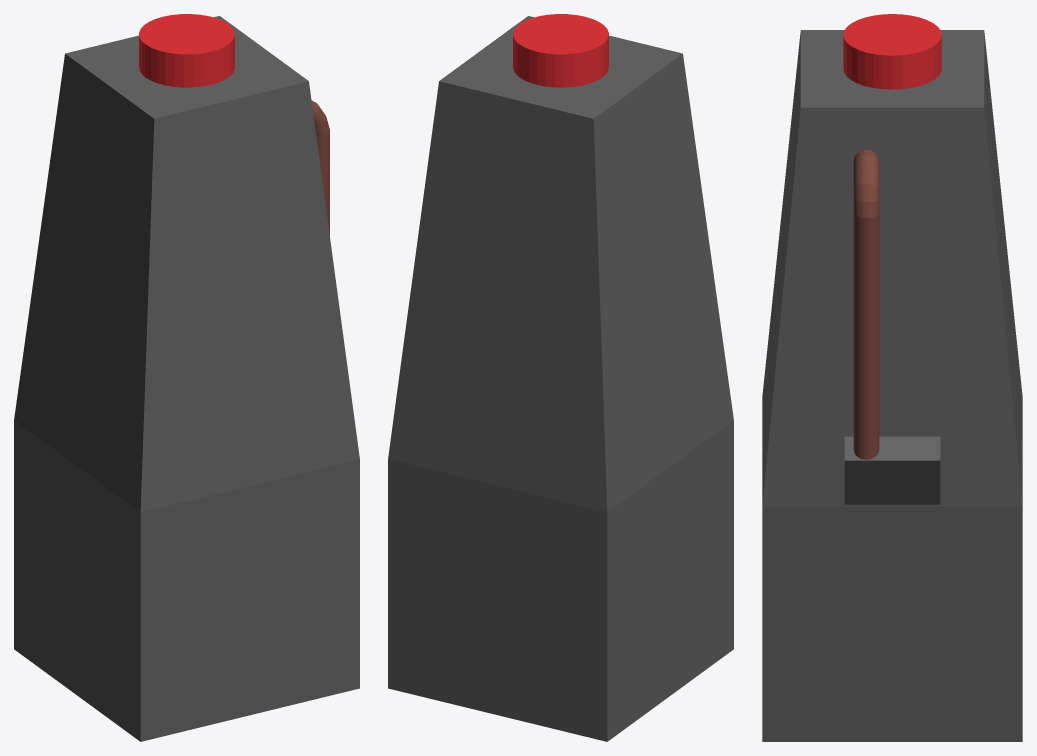
File: Button.fbx
3 renders of one model, left to right at view 1: azimuth 30°, elevation 25°; view 2: azimuth 150°, elevation 25°; view 3: azimuth 270°, elevation 25°, orthographic. The views are drawn at different scales.
Parts seen in each view (by area): view 1: Cube, Cylinder.001, Cylinder; view 2: Cube, Cylinder.001; view 3: Cube, Cylinder, Cylinder.001.
Part boxes in pixels (x1,y1,x2,y2): Cube: [14, 16, 359, 741]; Cylinder.001: [139, 14, 234, 87]; Cylinder: [311, 100, 329, 235]; Cube: [388, 16, 733, 741]; Cylinder.001: [513, 14, 608, 87]; Cube: [762, 30, 1022, 741]; Cylinder: [853, 149, 879, 459]; Cylinder.001: [843, 14, 941, 89].
Bounding box in the file's own units: 120 × 303 × 110.
